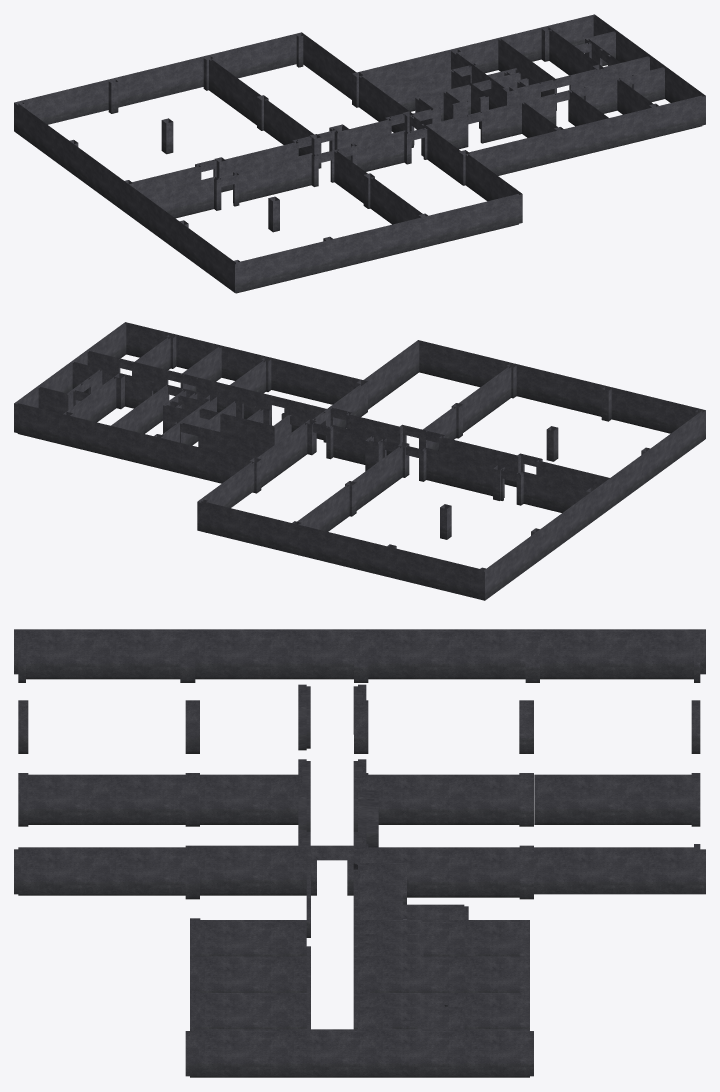
File: 2f墙体.obj
The picture shows the model from 3 angles, top to bottom: view 1: azimuth 30°, elevation 25°; view 2: azimuth 150°, elevation 25°; view 3: azimuth 270°, elevation 25°; orthographic projection. The views are drawn at different scales.
Parts seen in each view (by area): view 1: Line006; view 2: Line006; view 3: Line006.
Boxes of the visible parts, x1,y1,x2,y2 form: Line006: [14, 14, 705, 293]; Line006: [14, 322, 705, 600]; Line006: [14, 629, 705, 1077].
Bounding box in the file's own units: 5351 × 300 × 3894.
